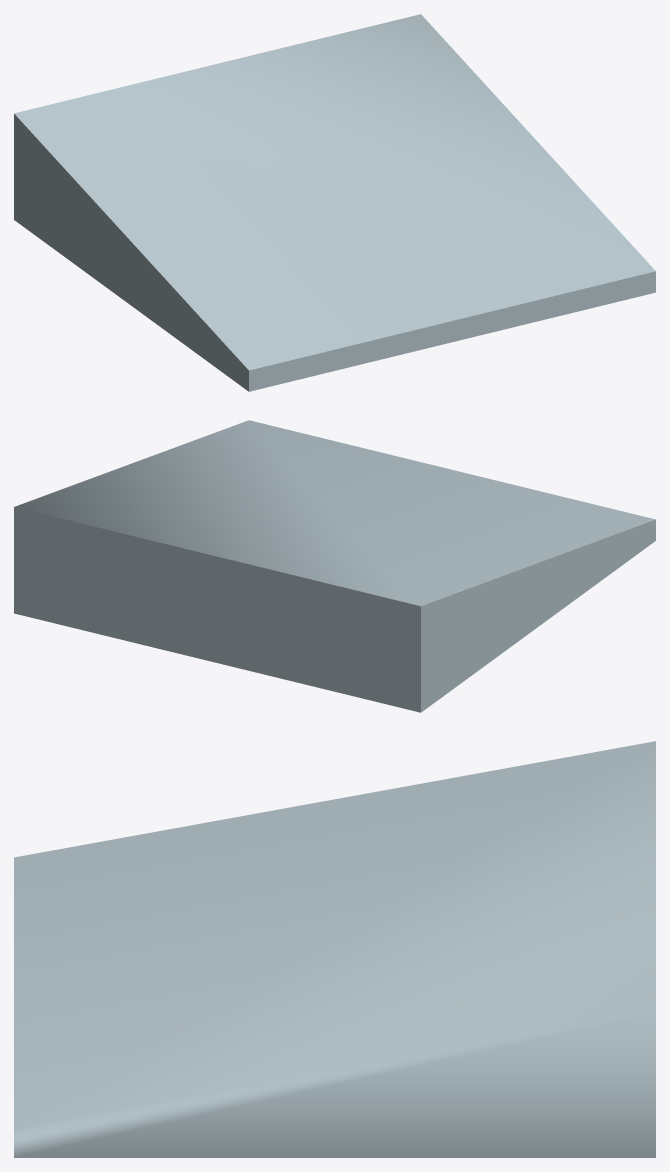
Rendered from roadCurbSlope.glb.
3 renders of one model, top to bottom at view 1: azimuth 30°, elevation 25°; view 2: azimuth 150°, elevation 25°; view 3: azimuth 270°, elevation 25°, orthographic. The views are drawn at different scales.
Visible parts, largest first — view 1: roadCurbSlope; view 2: roadCurbSlope; view 3: roadCurbSlope.
Boxes of the visible parts, x1=… form: roadCurbSlope: x1=14, y1=14, x2=655, y2=391; roadCurbSlope: x1=14, y1=420, x2=655, y2=712; roadCurbSlope: x1=14, y1=741, x2=655, y2=1157.
Bounding box in the file's own units: 1 × 0.25 × 1.
